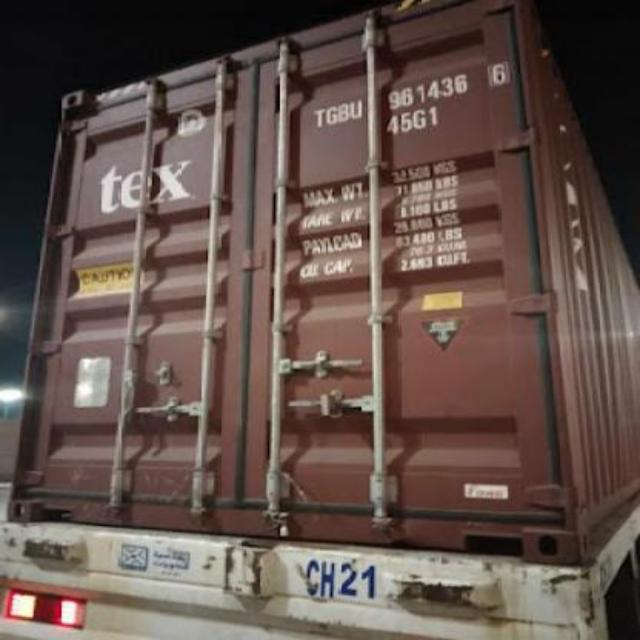1: (416, 83, 426, 103)
3: (438, 77, 456, 97)
4: (424, 81, 442, 99)
6: (456, 73, 469, 93), (402, 89, 414, 105), (492, 65, 504, 81)
9: (386, 88, 399, 110)
B: (338, 102, 350, 125)
G: (324, 104, 338, 128)
T: (312, 109, 326, 129)
U: (350, 100, 362, 118)
